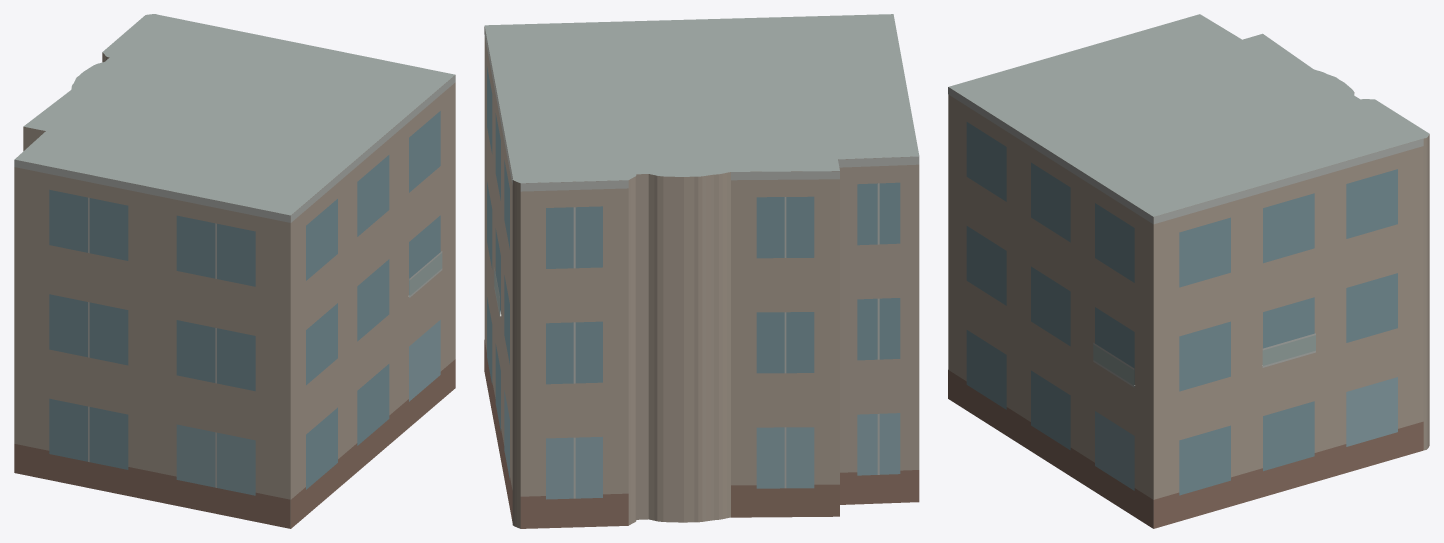
File: survey-upis-32638205.glb
3 views of the same model, side by side, from view 1: azimuth 30°, elevation 25°; view 2: azimuth 150°, elevation 25°; view 3: azimuth 270°, elevation 25° (orthographic). The views are drawn at different scales.
Visible parts, largest first — view 1: survey-upis-32638205.tmp; view 2: survey-upis-32638205.tmp; view 3: survey-upis-32638205.tmp.
Part boxes in pixels (<box>): survey-upis-32638205.tmp: <box>14,14,455,528</box>; survey-upis-32638205.tmp: <box>484,14,919,528</box>; survey-upis-32638205.tmp: <box>948,14,1429,528</box>.
Bounding box in the file's own units: 14.24 × 10.2 × 14.28.
